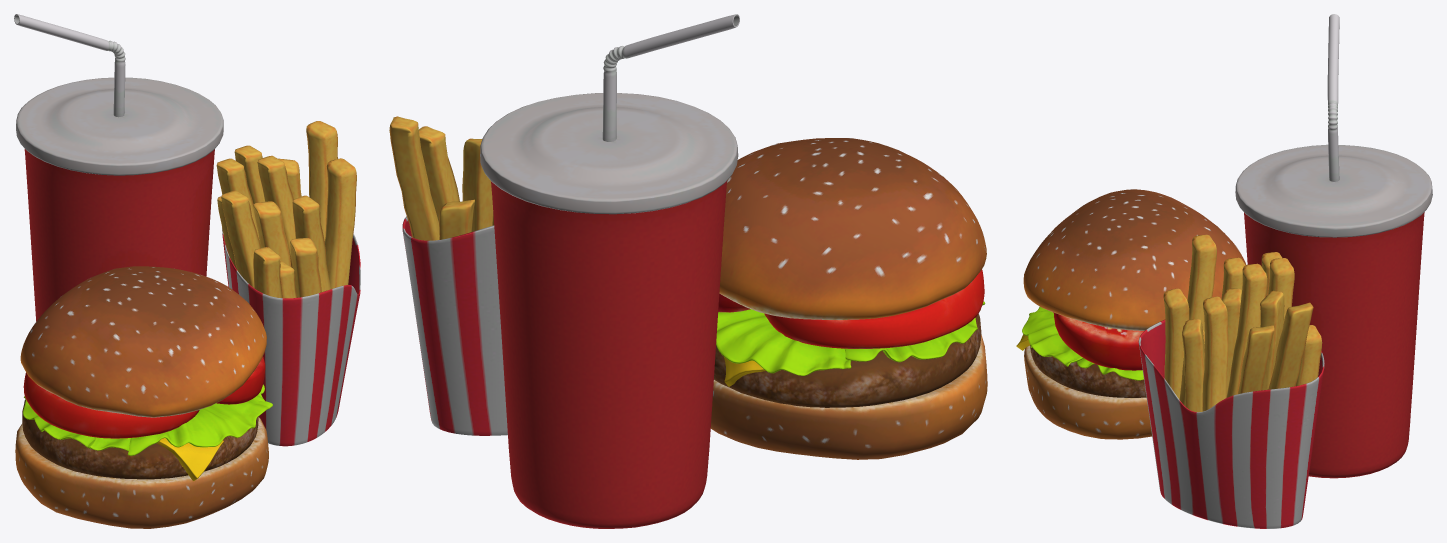
Rendered from Burger.glb.
3 views of the same model, side by side, from view 1: azimuth 30°, elevation 25°; view 2: azimuth 150°, elevation 25°; view 3: azimuth 270°, elevation 25° (orthographic). The views are drawn at different scales.
Visible parts, largest first — view 1: node_id5; view 2: node_id5; view 3: node_id5.
Boxes of the visible parts, left/top/right/bottom form: node_id5: left=14, top=14, right=360, bottom=528; node_id5: left=389, top=14, right=987, bottom=528; node_id5: left=1016, top=14, right=1432, bottom=528.
Bounding box in the file's own units: 0.5045 × 0.512 × 0.4971.
1 material, 1 textured.
